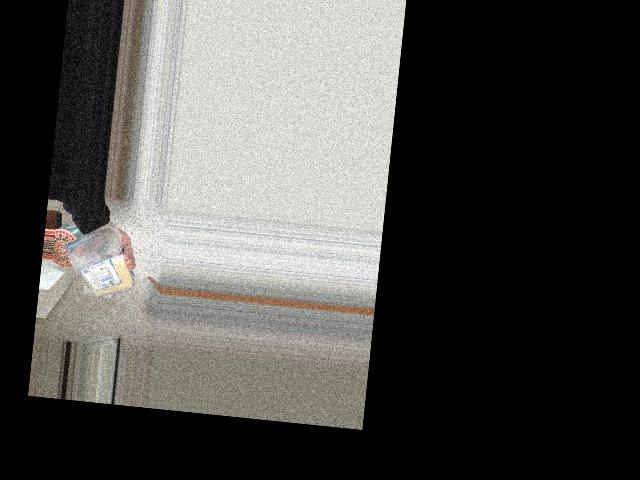cheese: (58, 228, 130, 304)
